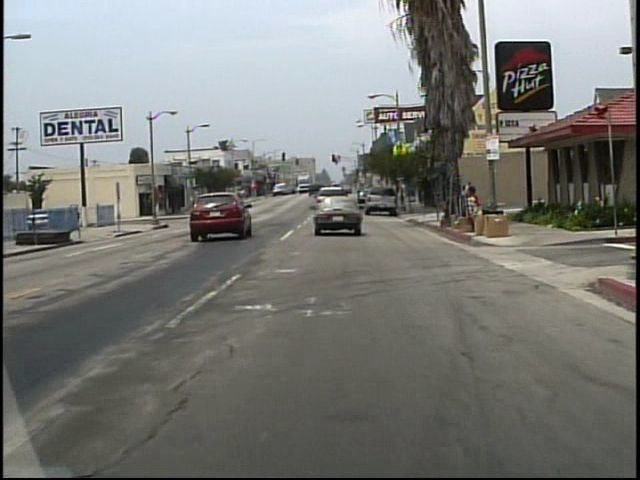person: (469, 181, 479, 212), (464, 182, 471, 208)
